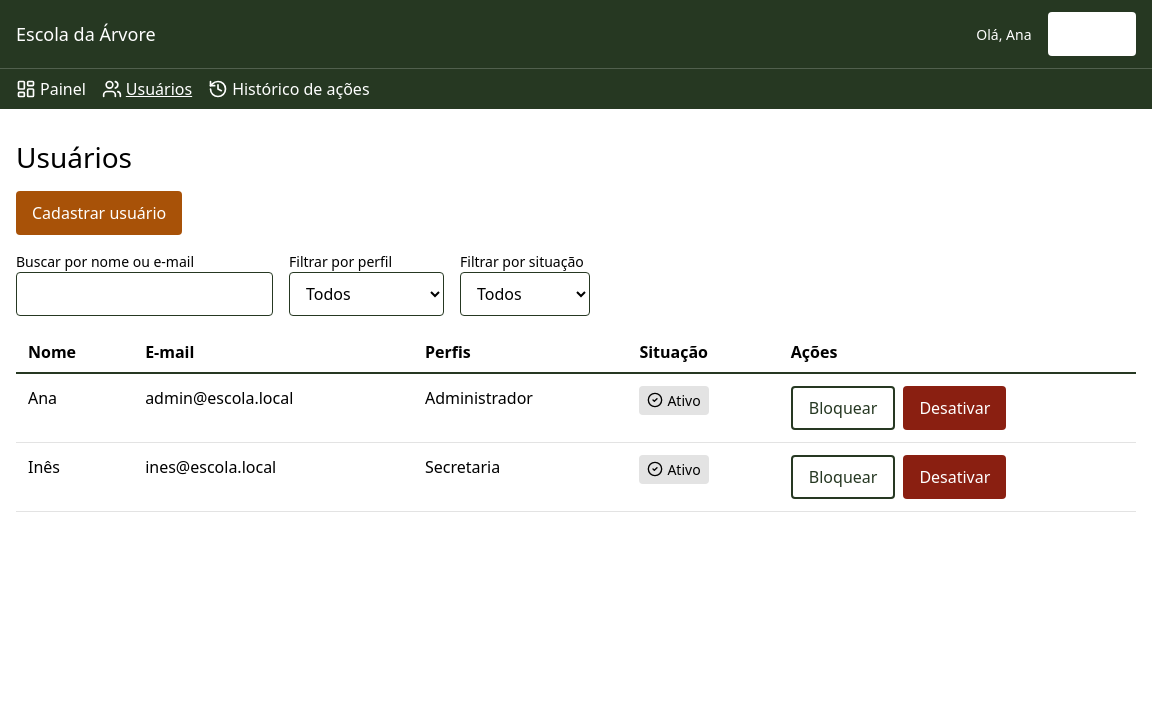
US5 — desativação › usuário desativado continua visível na lista, com o estado refletido, sem exclusão definitiva
Check: the text "Inês" is shown, box x1=16 y1=442 x2=133 y2=511
Click the button "Desativar" in the row of "Inês" at (955, 477), box x1=903 y1=455 x2=1006 y2=499
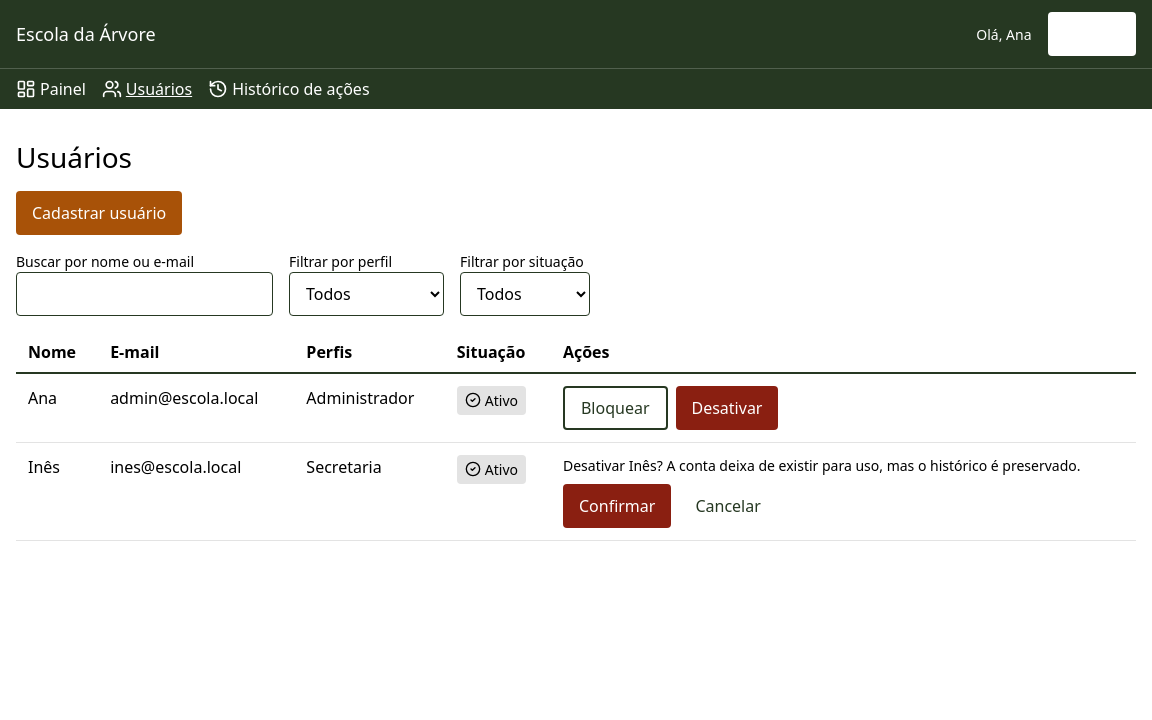
Click the button "Confirmar" at (617, 506), box x1=563 y1=484 x2=672 y2=528
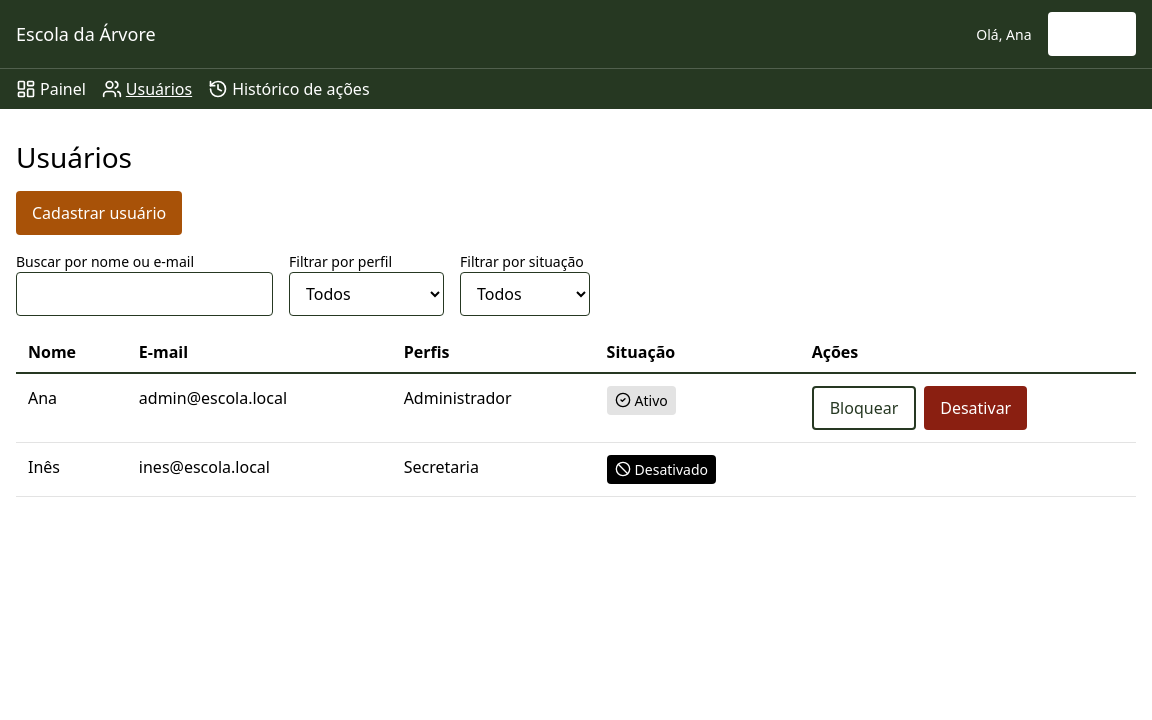
Check: the text "Desativado" is shown, box x1=607 y1=455 x2=716 y2=484
